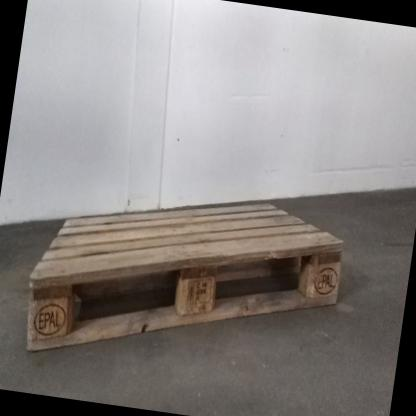BoxFace: (23, 198, 344, 361)
